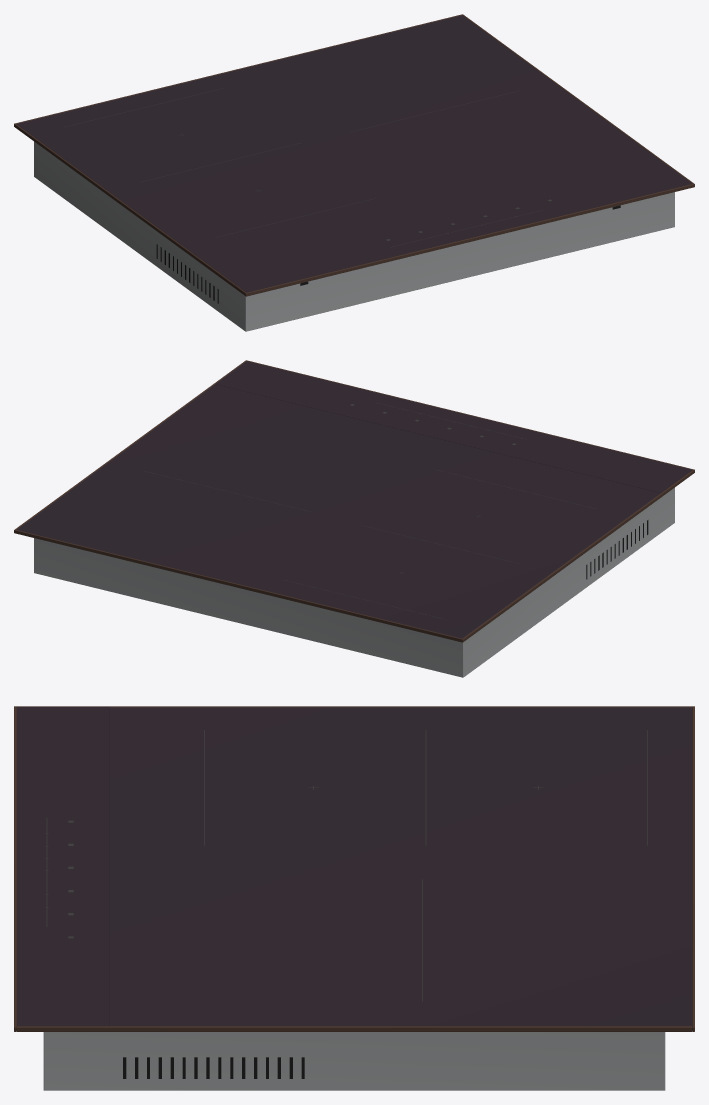
File: BEF3AMB4-b67-5c83b2.glb
The picture shows the model from 3 angles, top to bottom: view 1: azimuth 30°, elevation 25°; view 2: azimuth 150°, elevation 25°; view 3: azimuth 270°, elevation 25°; orthographic projection. The views are drawn at different scales.
Visible parts, largest first — view 1: GlassTop, EmbeddedBody, ControlPanel, TopEdgeFB1, RightZoneLine; view 2: GlassTop, EmbeddedBody, ControlPanel, TopEdgeFB1, RightZoneLine; view 3: GlassTop, EmbeddedBody, ControlPanel, TopEdgeFB1, B67_FrontSlot_200, RightZoneLine.
Part boxes in pixels (left/top/right/bottom): GlassTop: left=16, top=15, right=660, bottom=269; EmbeddedBody: left=34, top=141, right=674, bottom=331; ControlPanel: left=215, top=160, right=692, bottom=292; TopEdgeFB1: left=14, top=14, right=694, bottom=296; RightZoneLine: left=64, top=88, right=551, bottom=247; GlassTop: left=17, top=384, right=660, bottom=638; EmbeddedBody: left=34, top=487, right=674, bottom=677; ControlPanel: left=215, top=361, right=692, bottom=492; TopEdgeFB1: left=14, top=360, right=694, bottom=642; RightZoneLine: left=144, top=402, right=595, bottom=619; GlassTop: left=109, top=707, right=692, bottom=1026; EmbeddedBody: left=43, top=1032, right=665, bottom=1090; ControlPanel: left=16, top=707, right=109, bottom=1026; TopEdgeFB1: left=14, top=706, right=694, bottom=1031; B67_FrontSlot_200: left=123, top=1057, right=304, bottom=1078; RightZoneLine: left=45, top=730, right=647, bottom=1001.
Size of the model in its own units: 0.575 by 0.059 by 0.515.
